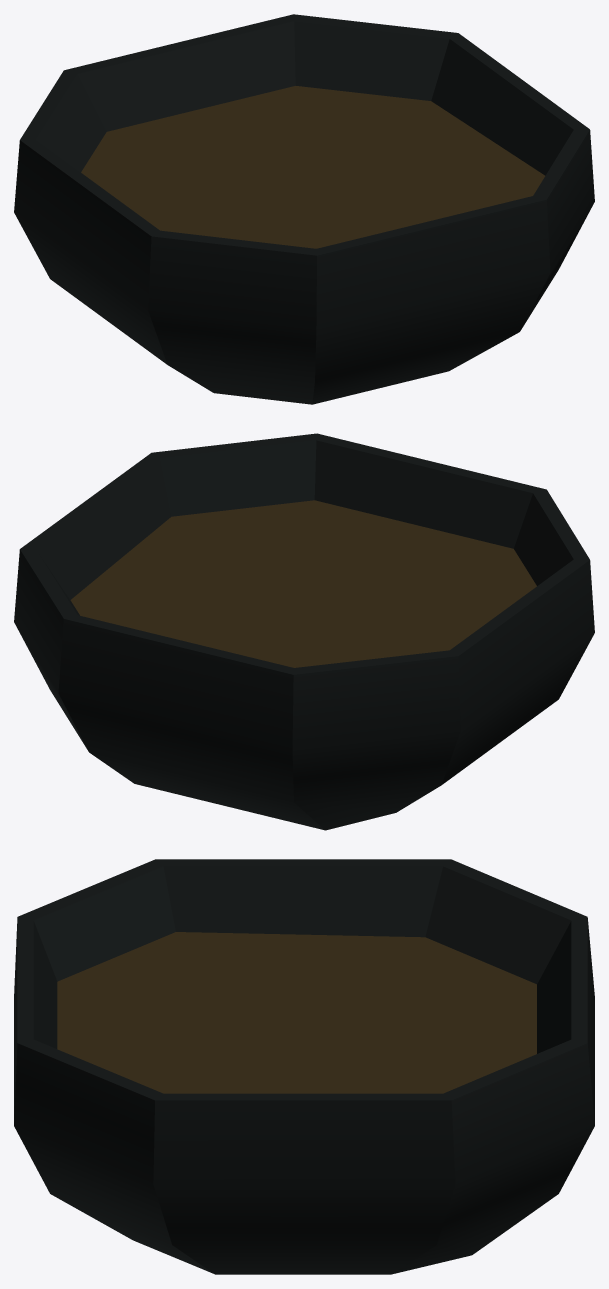
The model's file is PlantPot-Small_01.fbx.
3 renders of one model, top to bottom at view 1: azimuth 30°, elevation 25°; view 2: azimuth 150°, elevation 25°; view 3: azimuth 270°, elevation 25°, orthographic. The views are drawn at different scales.
Parts seen in each view (by area): view 1: PlantPotSmall_01; view 2: PlantPotSmall_01; view 3: PlantPotSmall_01.
Boxes of the visible parts, x1=… form: PlantPotSmall_01: x1=14, y1=14, x2=594, y2=404; PlantPotSmall_01: x1=14, y1=433, x2=594, y2=830; PlantPotSmall_01: x1=14, y1=859, x2=594, y2=1274.
Size of the model in its own units: 0.2823 by 0.1228 by 0.2823.
